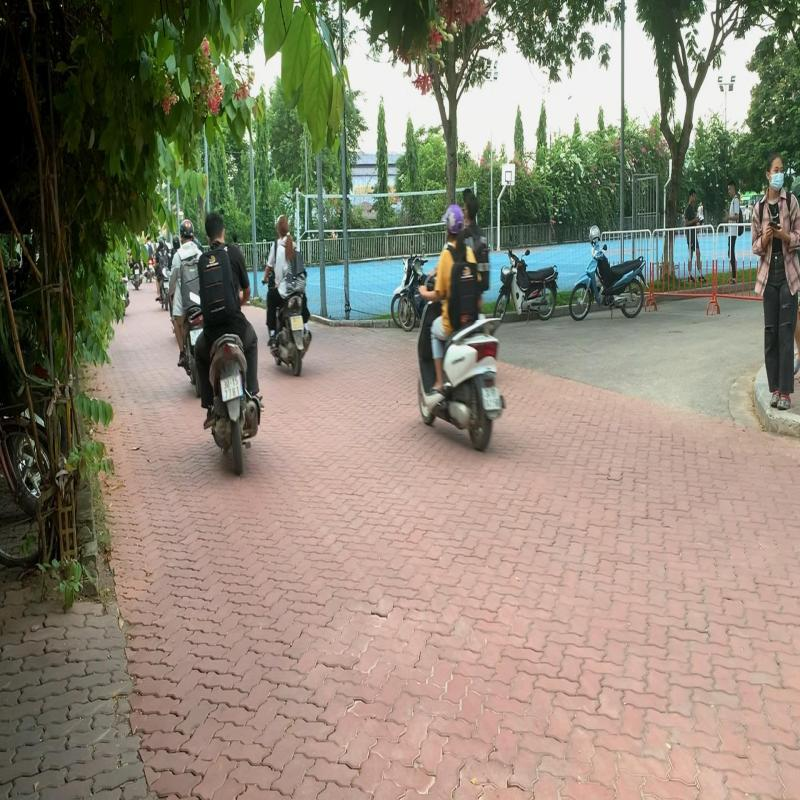nohelmet: (204, 205, 225, 247)
